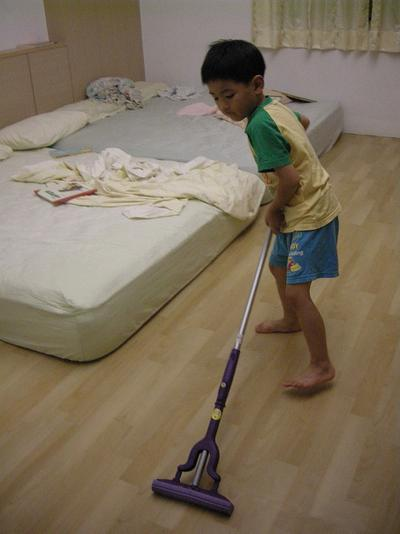person: (201, 40, 340, 393)
